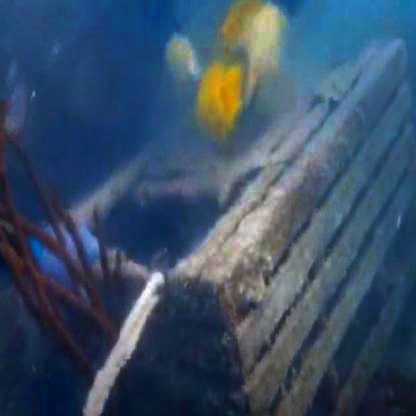misc: (84, 169, 383, 382)
